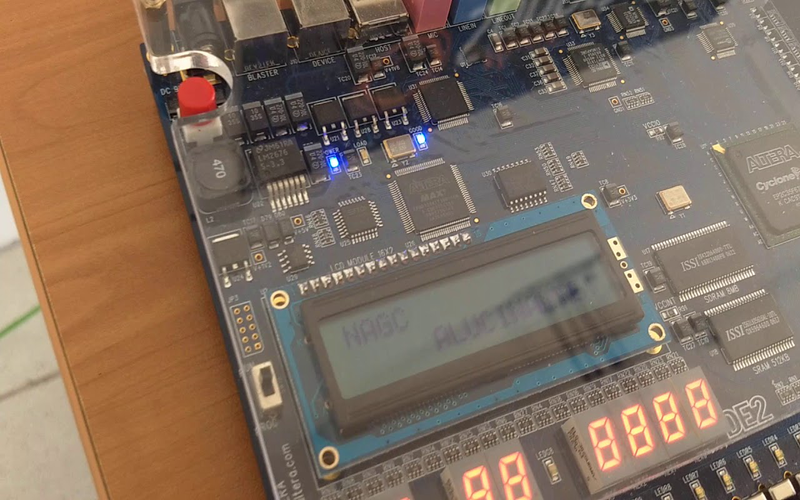LCD: (263, 198, 680, 455)
